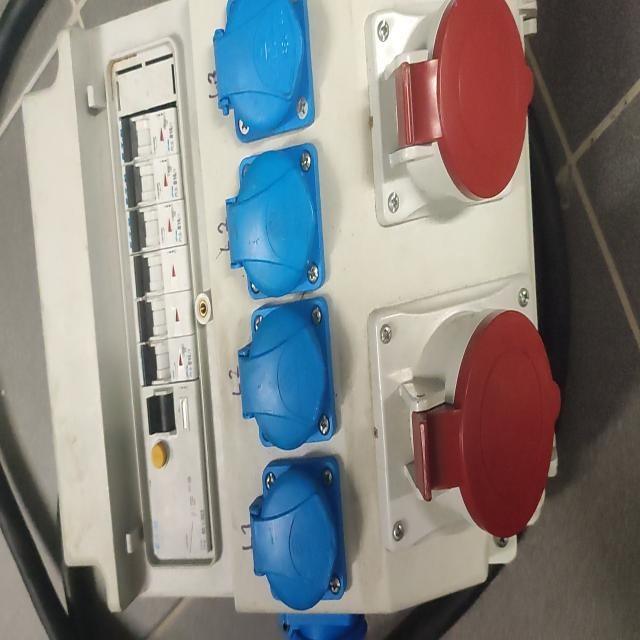400v socket: (367, 272, 561, 552), (365, 0, 534, 229)
house plug covered: (226, 143, 325, 300), (238, 296, 337, 450), (249, 456, 347, 611), (213, 0, 315, 144)
